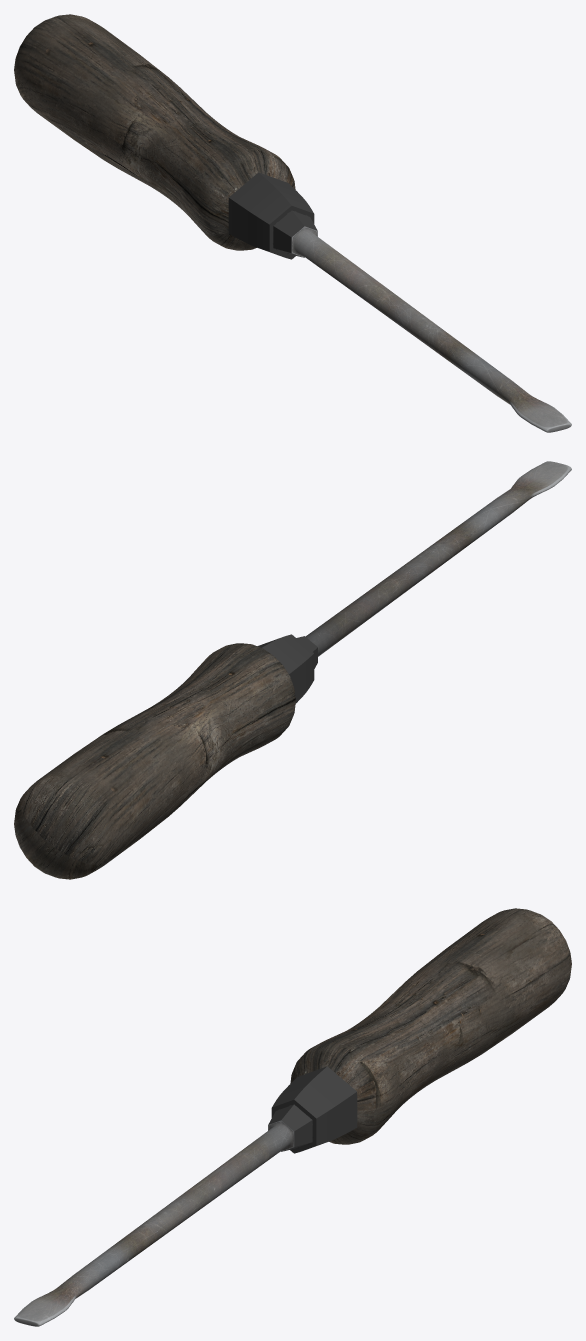
File: wood_handle_flathead_screwdriver_250mm_MAIN.glb
3 views of the same model, one above another, from view 1: azimuth 30°, elevation 25°; view 2: azimuth 150°, elevation 25°; view 3: azimuth 330°, elevation 25° (orthographic).
Parts seen in each view (by area): view 1: wood_handle_flathead_screwdriver_MAIN; view 2: wood_handle_flathead_screwdriver_MAIN; view 3: wood_handle_flathead_screwdriver_MAIN.
Part boxes in pixels (left/top/right/bottom): wood_handle_flathead_screwdriver_MAIN: left=14, top=14, right=571, bottom=432; wood_handle_flathead_screwdriver_MAIN: left=14, top=461, right=571, bottom=879; wood_handle_flathead_screwdriver_MAIN: left=14, top=908, right=571, bottom=1326.
Bounding box in the file's own units: 0.0262 × 0.0264 × 0.25.
Materials: 1 (1 with a texture image).
